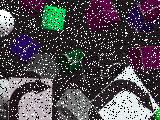Right: (90, 65, 160, 120), (8, 77, 52, 120)
